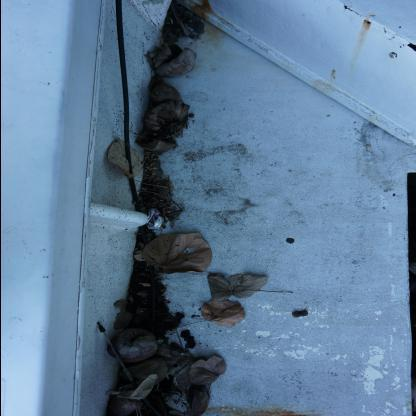metal: (146, 209, 164, 231)
